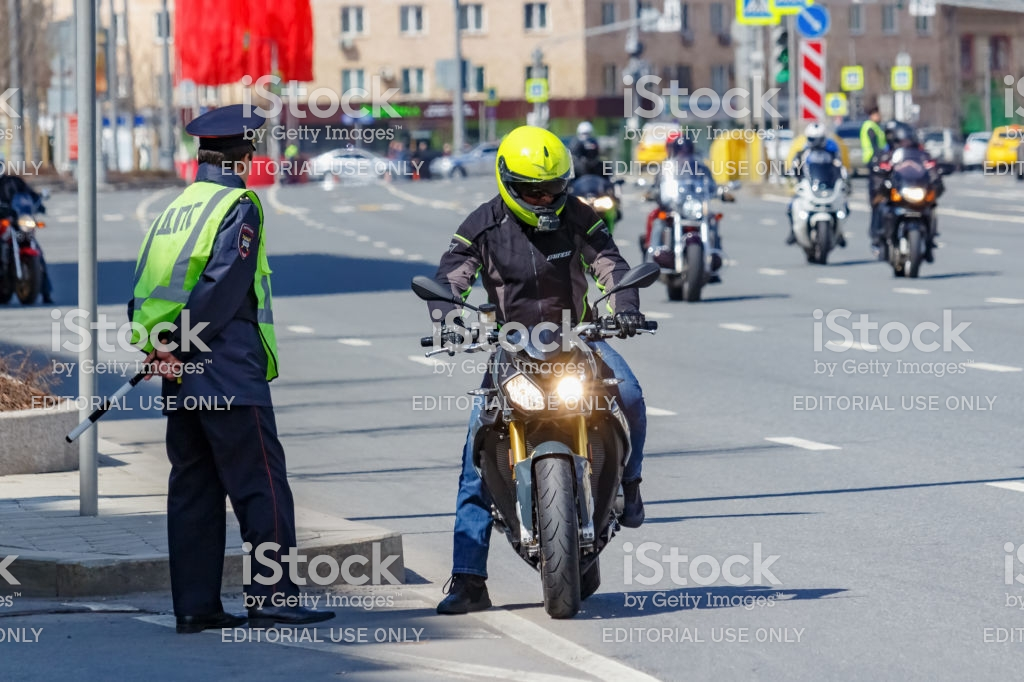helmet: (488, 130, 570, 225)
